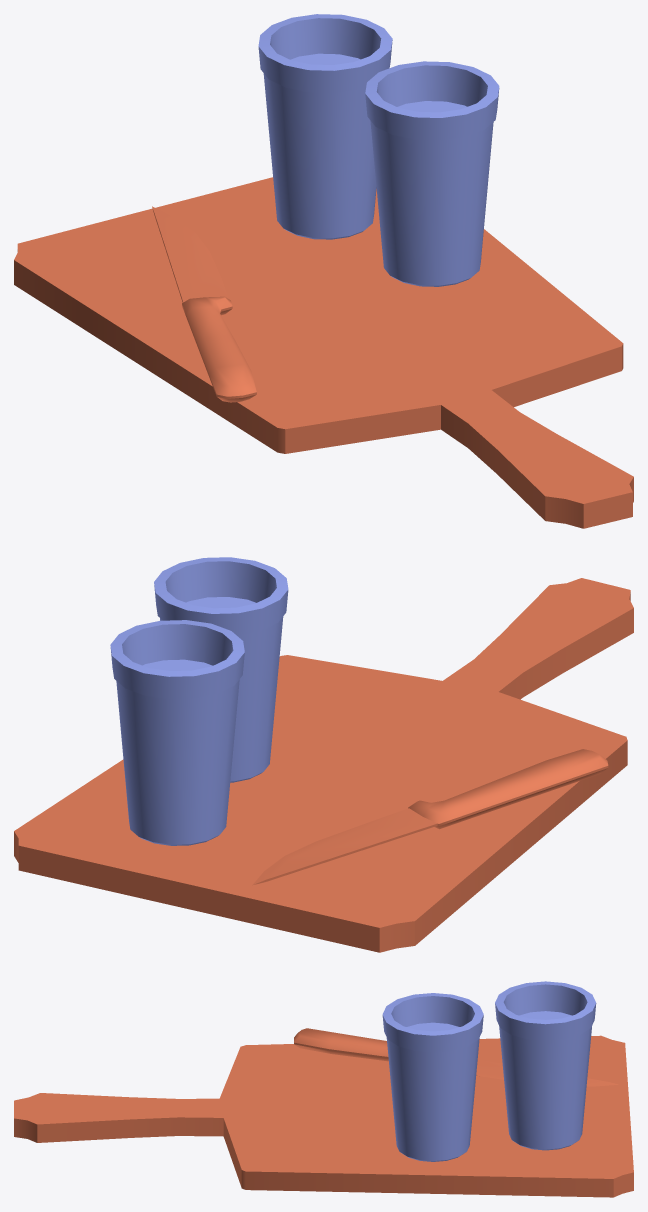
3 views of the same model, one above another, from view 1: azimuth 30°, elevation 25°; view 2: azimuth 150°, elevation 25°; view 3: azimuth 270°, elevation 25° (orthographic). The views are drawn at different scales.
Visible parts, largest first — view 1: board_lp, Cylinder002, Cylinder001, knife_lp; view 2: board_lp, Cylinder001, Cylinder002, knife_lp, Object002, Object001; view 3: board_lp, Cylinder001, Cylinder002, knife_lp, Object002, Object001.
Boxes of the visible parts, <box> form: board_lp: <box>14,177,633,528</box>; Cylinder002: <box>365,61,499,286</box>; Cylinder001: <box>258,14,392,239</box>; knife_lp: <box>152,206,256,402</box>; board_lp: <box>14,578,633,952</box>; Cylinder001: <box>110,620,244,845</box>; Cylinder002: <box>154,557,288,782</box>; knife_lp: <box>252,749,608,885</box>; Object002: <box>186,597,255,608</box>; Object001: <box>143,659,212,670</box>; board_lp: <box>14,1035,633,1197</box>; Cylinder001: <box>495,981,596,1150</box>; Cylinder002: <box>382,993,483,1161</box>; knife_lp: <box>294,1028,618,1086</box>; Object002: <box>407,1022,459,1031</box>; Object001: <box>519,1011,571,1019</box>.
Size of the model in its own units: 204 by 101 by 373.
